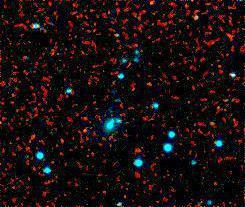star: (129, 0, 159, 19)
